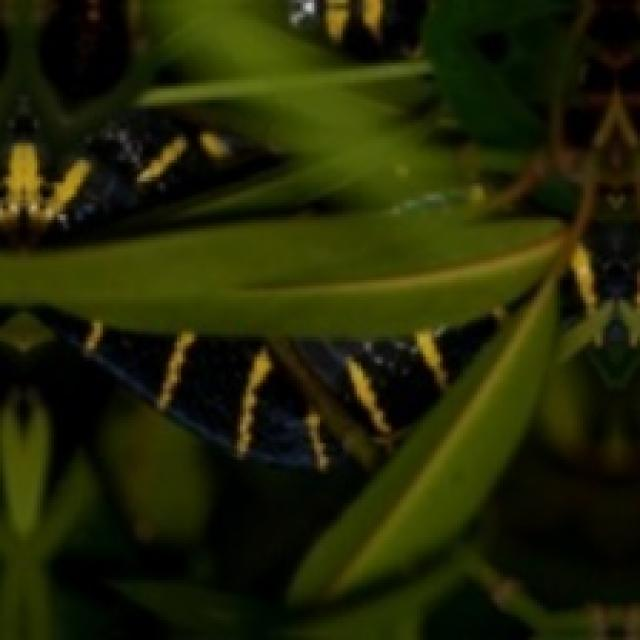mangrove cat snake: (30, 309, 341, 471), (0, 110, 280, 243), (295, 308, 504, 450), (561, 194, 640, 325)
